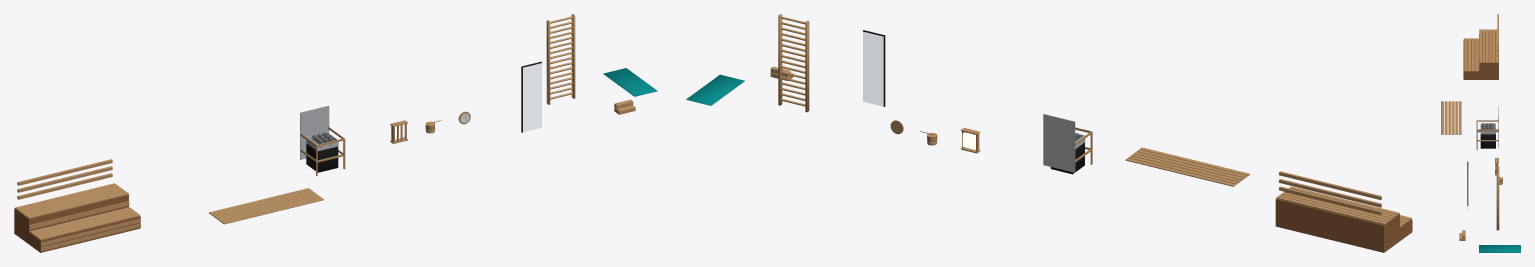
Rendered from Spa_01.glb.
3 renders of one model, left to right at view 1: azimuth 30°, elevation 25°; view 2: azimuth 150°, elevation 25°; view 3: azimuth 270°, elevation 25°, orthographic. The views are drawn at different scales.
Visible parts, largest first — view 1: SaunaBench_Slats, SaunaBench_Base, WallLadder_Wood, Duckboard_Slats, ShowerScreen_Glass, SaunaHeater_Metal, FloorMat_Mat, SaunaHeater_Stove, SaunaHeater_Guard; view 2: SaunaBench_Base, SaunaBench_Slats, Duckboard_Slats, WallLadder_Wood, SaunaHeater_Metal, ShowerScreen_Glass, FloorMat_Mat; view 3: SaunaBench_Slats, SaunaBench_Base, Duckboard_Slats, FloorMat_Mat, WallLadder_Wood, SaunaHeater_Stove, SaunaHeater_Guard, SaunaHeater_Metal, SaunaHeater_Stones, ShowerScreen_Frame, PlungeStep_Wood.
Boxes of the visible parts, <box> form: SaunaBench_Slats: <box>15,159,140,251</box>; SaunaBench_Base: <box>14,194,140,252</box>; WallLadder_Wood: <box>546,14,575,104</box>; Duckboard_Slats: <box>209,188,323,224</box>; ShowerScreen_Glass: <box>523,63,541,131</box>; SaunaHeater_Metal: <box>300,105,338,159</box>; FloorMat_Mat: <box>603,68,657,96</box>; SaunaHeater_Stove: <box>306,143,338,172</box>; SaunaHeater_Guard: <box>300,127,345,175</box>; SaunaBench_Base: <box>1275,199,1412,252</box>; SaunaBench_Slats: <box>1276,171,1412,229</box>; Duckboard_Slats: <box>1125,147,1249,186</box>; WallLadder_Wood: <box>778,14,809,112</box>; SaunaHeater_Metal: <box>1043,114,1085,172</box>; ShowerScreen_Glass: <box>863,32,883,106</box>; FloorMat_Mat: <box>686,74,744,105</box>; SaunaBench_Slats: <box>1463,14,1498,78</box>; SaunaBench_Base: <box>1463,30,1498,79</box>; Duckboard_Slats: <box>1441,101,1461,134</box>; FloorMat_Mat: <box>1479,245,1520,252</box>; WallLadder_Wood: <box>1496,166,1499,230</box>; SaunaHeater_Stove: <box>1480,134,1495,148</box>; SaunaHeater_Guard: <box>1476,120,1498,150</box>; SaunaHeater_Metal: <box>1480,106,1498,147</box>; SaunaHeater_Stones: <box>1480,123,1495,129</box>; ShowerScreen_Frame: <box>1467,161,1468,205</box>; PlungeStep_Wood: <box>1459,230,1465,240</box>.
Size of the model in its own units: 75.4 by 9.54 by 12.35.
